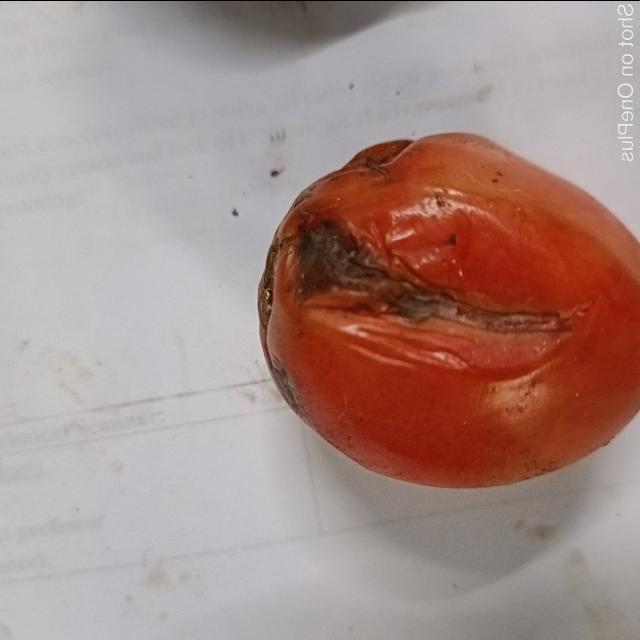Botrytis: (291, 219, 569, 326)
